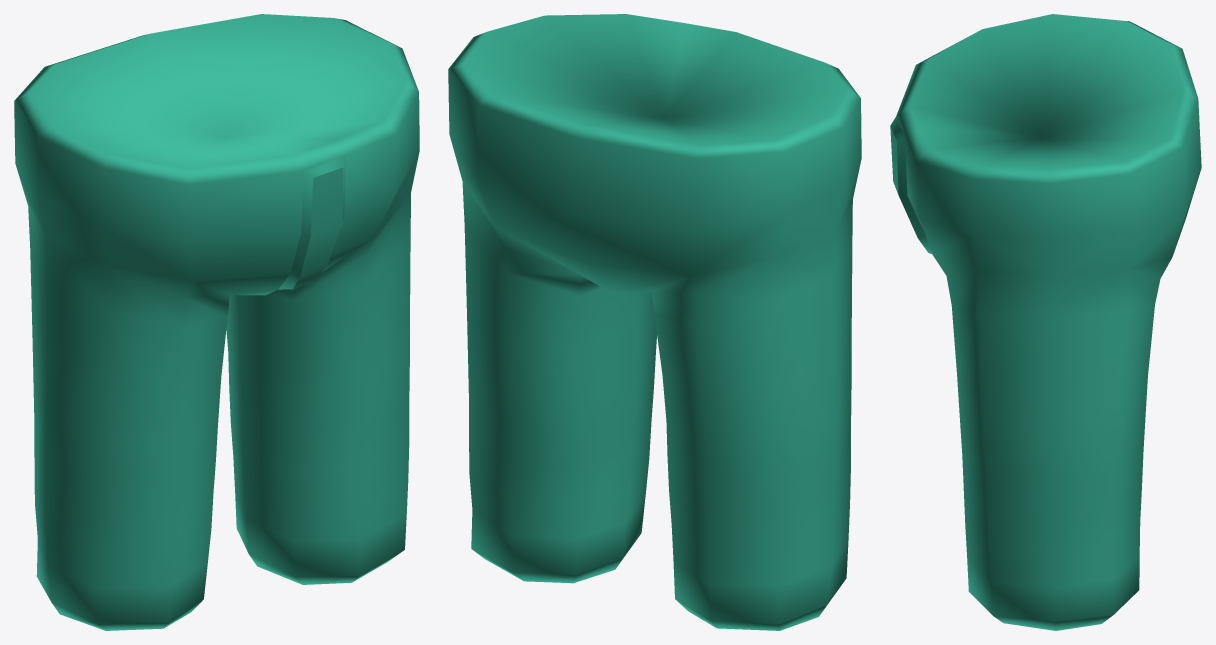
The model's file is Bottom_29.fbx.
3 views of the same model, side by side, from view 1: azimuth 30°, elevation 25°; view 2: azimuth 150°, elevation 25°; view 3: azimuth 270°, elevation 25° (orthographic). The views are drawn at different scales.
Parts seen in each view (by area): view 1: Bottom_29; view 2: Bottom_29; view 3: Bottom_29.
Part boxes in pixels (x1,y1,x2,y2): Bottom_29: (14, 14, 419, 630); Bottom_29: (448, 14, 861, 630); Bottom_29: (890, 14, 1201, 630).
Bounding box in the file's own units: 38.53 × 50.18 × 30.23.
